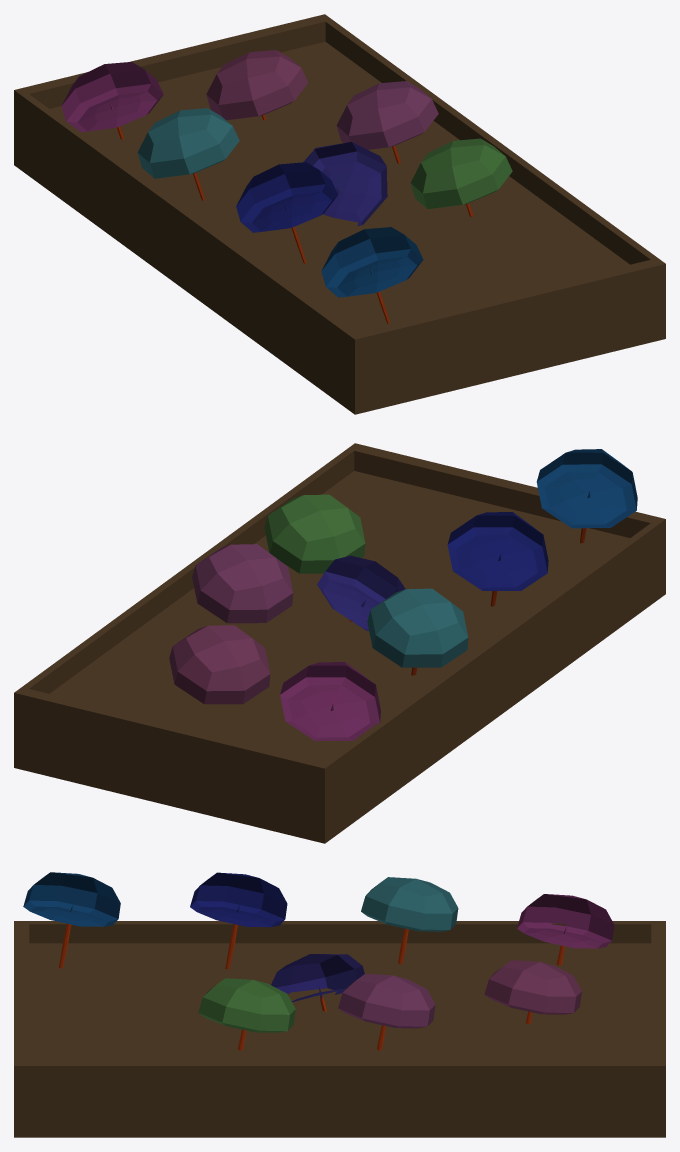
The model's file is mushroom_box.glb.
3 renders of one model, top to bottom at view 1: azimuth 30°, elevation 25°; view 2: azimuth 150°, elevation 25°; view 3: azimuth 270°, elevation 25°, orthographic. The views are drawn at different scales.
Visible parts, largest first — view 1: Cube.006; view 2: Cube.006; view 3: Cube.006.
Boxes of the visible parts, x1,y1,x2,y2 form: Cube.006: [14, 14, 665, 414]; Cube.006: [14, 443, 665, 843]; Cube.006: [14, 872, 665, 1137].
Size of the model in its own units: 0.2891 by 0.1295 by 0.5426.
